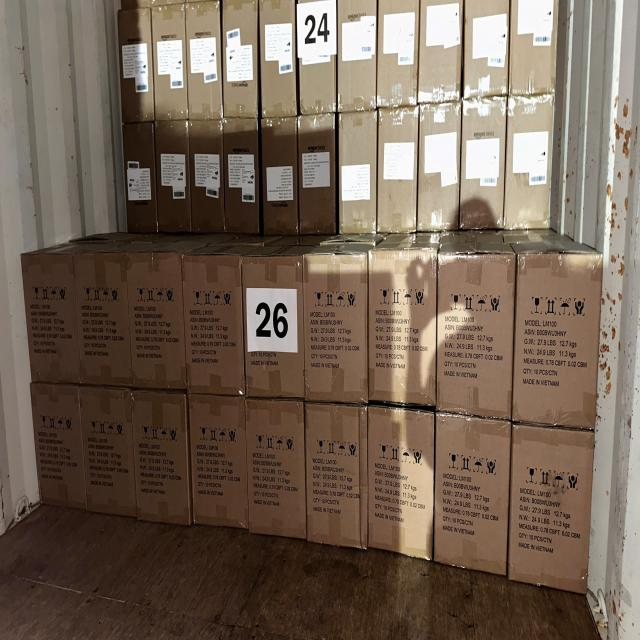Carton: (516, 252, 603, 434), (513, 425, 594, 591), (438, 255, 518, 423), (436, 413, 512, 576), (366, 250, 438, 408), (364, 407, 433, 559), (306, 255, 372, 404), (18, 250, 84, 388), (182, 256, 247, 396), (306, 405, 368, 550), (243, 402, 308, 540), (245, 260, 308, 401), (125, 256, 187, 391), (128, 395, 191, 527), (188, 399, 250, 529), (29, 382, 90, 509), (74, 254, 131, 388), (82, 388, 140, 516)
